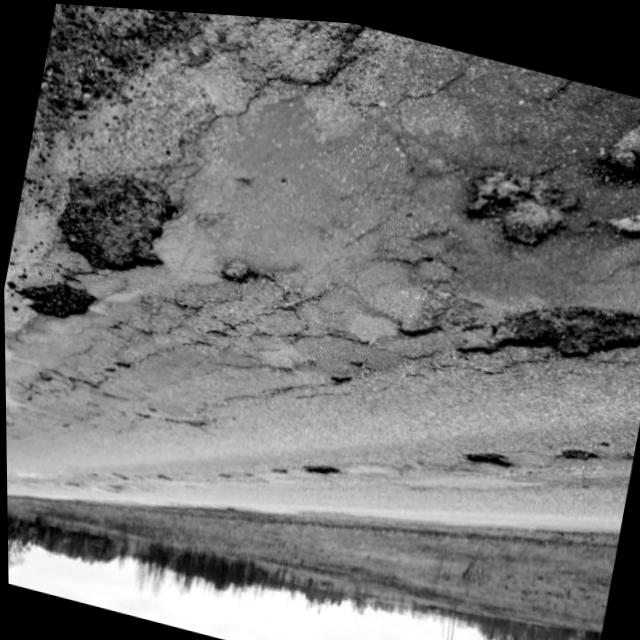pathole: (387, 43, 640, 458), (234, 336, 636, 583), (6, 49, 250, 405), (197, 224, 278, 311)
